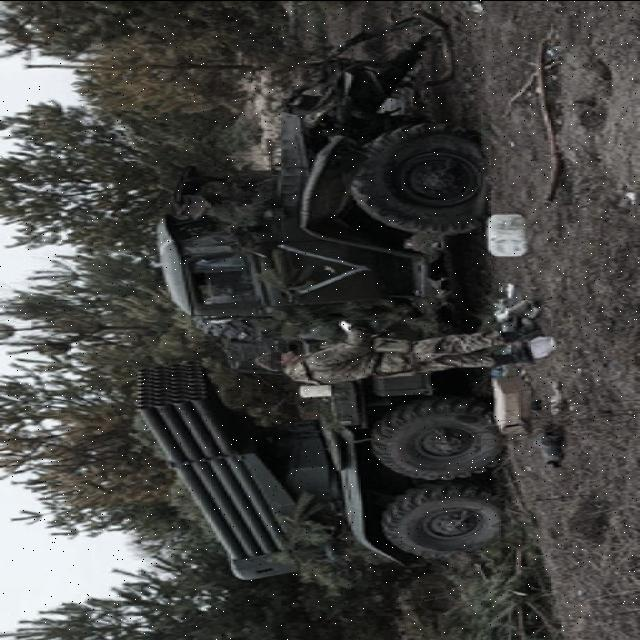MLRS: (118, 60, 524, 580)
